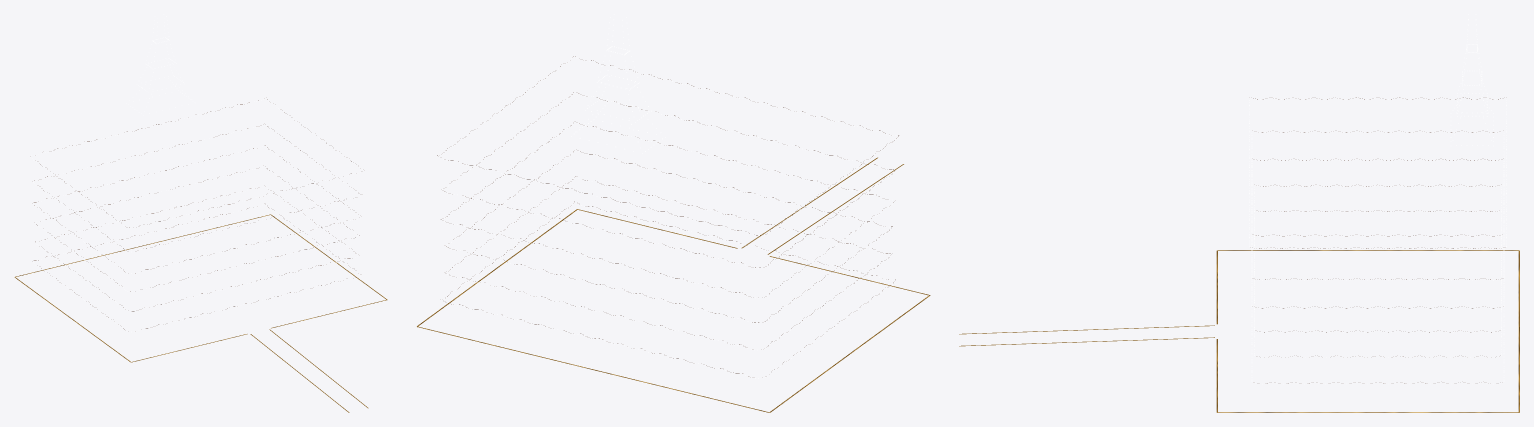
File: sp_neon.glb
3 renders of one model, left to right at view 1: azimuth 30°, elevation 25°; view 2: azimuth 150°, elevation 25°; view 3: azimuth 270°, elevation 25°, orthographic. The views are drawn at different scales.
Parts seen in each view (by area): view 1: spire; view 2: spire; view 3: spire.
Part boxes in pixels (x1=…): spire: x1=14, y1=14, x2=387, y2=412; spire: x1=417, y1=14, x2=930, y2=412; spire: x1=959, y1=14, x2=1519, y2=412.
Size of the model in its own units: 99.15 by 91.99 by 145.
3 materials, 2 textured.
